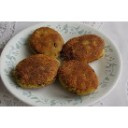cutlet: (61, 59, 99, 97), (15, 55, 58, 86), (65, 32, 106, 60), (30, 24, 63, 56)
